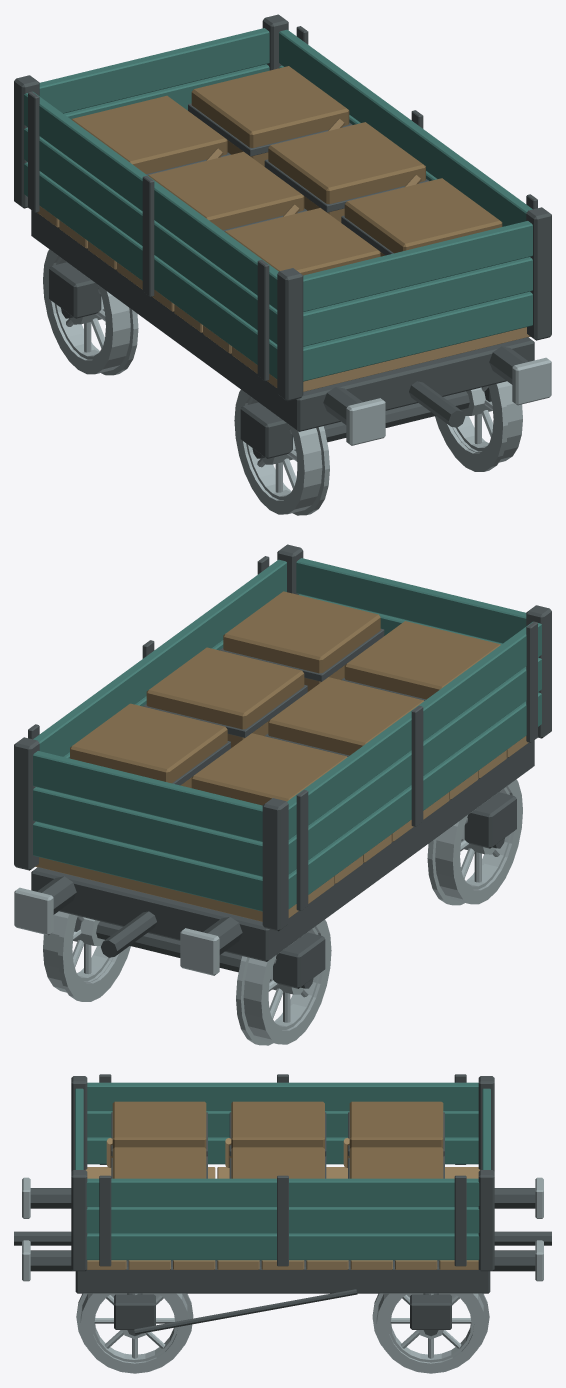
The model's file is freight-wagon.glb.
The picture shows the model from 3 angles, top to bottom: view 1: azimuth 30°, elevation 25°; view 2: azimuth 150°, elevation 25°; view 3: azimuth 270°, elevation 25°; orthographic projection. The views are drawn at different scales.
Parts seen in each view (by area): view 1: TransportRoot_mesh, DropSide_mesh, DropSide.001_mesh, Cargo.005_mesh, Cargo.003_mesh, Cargo.001_mesh, Cargo.002_mesh, Cargo.004_mesh, Cargo_mesh, RollingWheel_mesh, RollingWheel.002_mesh, RollingWheel.001_mesh; view 2: TransportRoot_mesh, DropSide_mesh, DropSide.001_mesh, Cargo.003_mesh, Cargo.001_mesh, Cargo.005_mesh, Cargo_mesh, Cargo.002_mesh, Cargo.004_mesh, RollingWheel.002_mesh, RollingWheel_mesh, RollingWheel.003_mesh; view 3: DropSide.001_mesh, TransportRoot_mesh, DropSide_mesh, Cargo.002_mesh, Cargo_mesh, Cargo.004_mesh, RollingWheel.003_mesh, RollingWheel.001_mesh, Cargo.001_mesh, Cargo.005_mesh, Cargo.003_mesh.
Part boxes in pixels (left/top/right/bottom): TransportRoot_mesh: left=14, top=14, right=551, bottom=458; DropSide_mesh: left=24, top=91, right=278, bottom=380; DropSide.001_mesh: left=279, top=26, right=537, bottom=226; Cargo.005_mesh: left=188, top=66, right=352, bottom=166; Cargo.003_mesh: left=264, top=122, right=428, bottom=222; Cargo.001_mesh: left=341, top=178, right=502, bottom=256; Cargo.002_mesh: left=148, top=151, right=307, bottom=231; Cargo.004_mesh: left=71, top=95, right=230, bottom=175; Cargo_mesh: left=225, top=208, right=380, bottom=275; RollingWheel_mesh: left=234, top=390, right=329, bottom=515; RollingWheel.002_mesh: left=43, top=249, right=138, bottom=375; RollingWheel.001_mesh: left=435, top=381, right=522, bottom=471; TransportRoot_mesh: left=14, top=544, right=551, bottom=988; DropSide_mesh: left=287, top=621, right=541, bottom=910; DropSide.001_mesh: left=28, top=556, right=286, bottom=758; Cargo.003_mesh: left=143, top=647, right=307, bottom=747; Cargo.001_mesh: left=219, top=591, right=384, bottom=691; Cargo.005_mesh: left=70, top=703, right=230, bottom=787; Cargo_mesh: left=341, top=621, right=500, bottom=700; Cargo.002_mesh: left=265, top=677, right=423, bottom=756; Cargo.004_mesh: left=191, top=733, right=347, bottom=805; RollingWheel.002_mesh: left=236, top=920, right=331, bottom=1045; RollingWheel_mesh: left=427, top=779, right=522, bottom=905; RollingWheel.003_mesh: left=43, top=911, right=130, bottom=1001; DropSide.001_mesh: left=86, top=1175, right=479, bottom=1266; TransportRoot_mesh: left=14, top=1076, right=551, bottom=1336; DropSide_mesh: left=87, top=1074, right=478, bottom=1164; Cargo.002_mesh: left=225, top=1101, right=326, bottom=1167; Cargo_mesh: left=106, top=1101, right=207, bottom=1167; Cargo.004_mesh: left=343, top=1101, right=444, bottom=1167; RollingWheel.003_mesh: left=372, top=1293, right=489, bottom=1373; RollingWheel.001_mesh: left=76, top=1293, right=193, bottom=1373; Cargo.001_mesh: left=111, top=1147, right=207, bottom=1178; Cargo.005_mesh: left=348, top=1147, right=444, bottom=1178; Cargo.003_mesh: left=229, top=1147, right=326, bottom=1178.
Size of the model in its own units: 1.02 by 0.942 by 2.18.
